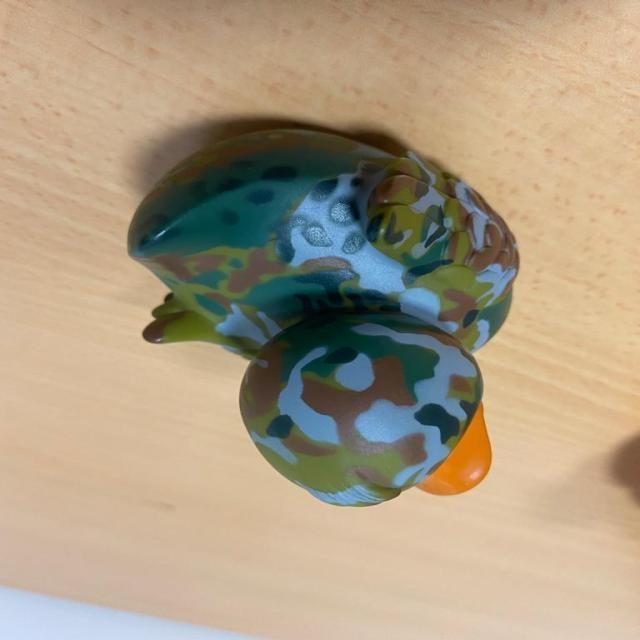rubber-duck: (127, 128, 516, 503)
